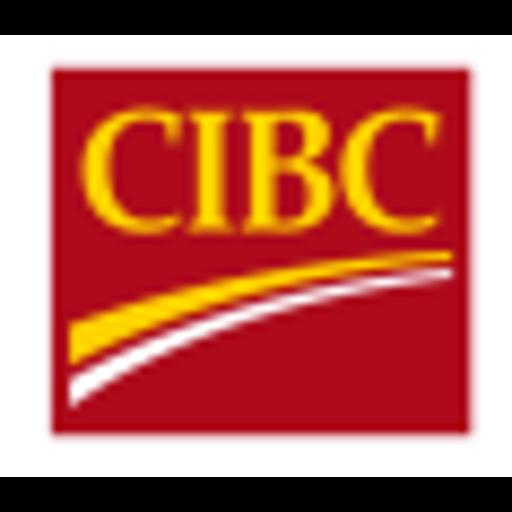Canadian Imperial Bank of Commerce: (0, 35, 512, 477)
